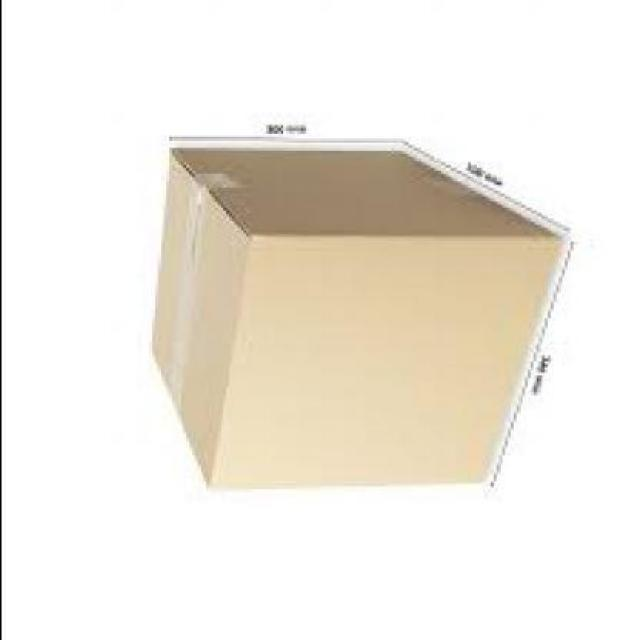box: (147, 145, 556, 486)
